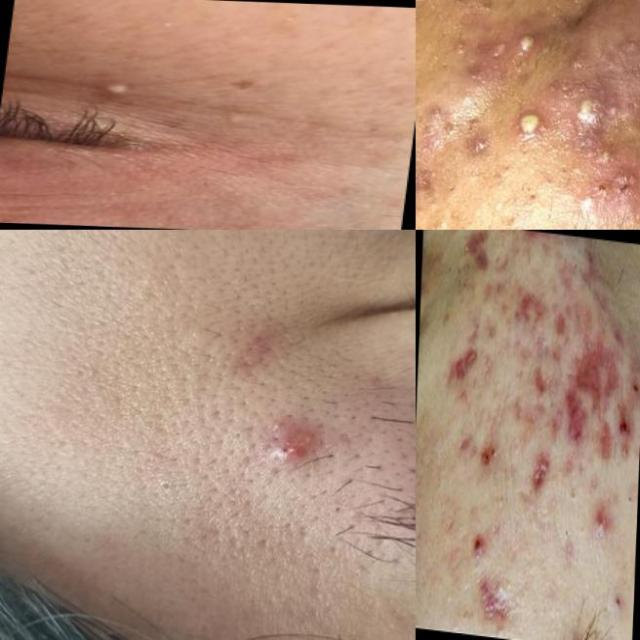acne_scars: (578, 319, 618, 407), (476, 565, 520, 638), (512, 280, 548, 340), (525, 351, 559, 414), (596, 402, 619, 477), (560, 384, 585, 452), (531, 436, 552, 510), (446, 338, 474, 393), (455, 423, 479, 471), (468, 230, 492, 270)
comedone: (145, 463, 180, 507), (446, 588, 480, 628), (554, 510, 582, 558), (437, 250, 461, 302), (564, 460, 589, 503), (622, 470, 634, 524)
cystic: (575, 79, 603, 132)
milium: (188, 101, 310, 132), (75, 70, 158, 110), (141, 8, 204, 34), (276, 6, 303, 30)
pustule: (513, 13, 557, 69), (512, 100, 550, 146)
sebo-crystan-conglo: (236, 401, 344, 488), (588, 0, 640, 136)
